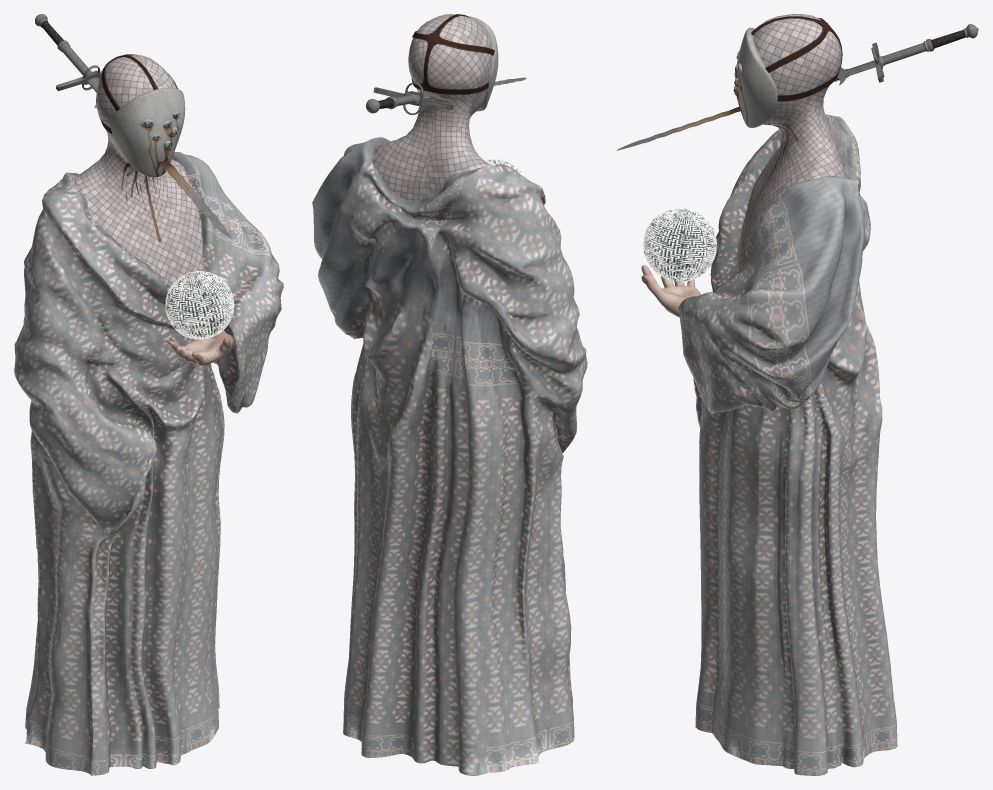
The model's file is avatar.glb.
3 views of the same model, side by side, from view 1: azimuth 30°, elevation 25°; view 2: azimuth 150°, elevation 25°; view 3: azimuth 270°, elevation 25° (orthographic). The views are drawn at different scales.
Visible parts, largest first — view 1: Cloth, Body, Mask, Maze, Zweihander, Hand, straps; view 2: Cloth, Body, Zweihander, straps, Mask; view 3: Cloth, Body, Maze, Mask, Zweihander, straps, Hand.
Part boxes in pixels (x1,y1,x2,y2): Cloth: [14, 152, 283, 775]; Body: [75, 55, 204, 286]; Mask: [110, 88, 185, 177]; Maze: [165, 271, 234, 339]; Zweihander: [35, 14, 230, 237]; Hand: [168, 330, 234, 365]; straps: [98, 54, 178, 134]; Cloth: [312, 137, 587, 775]; Body: [373, 14, 492, 267]; Zweihander: [366, 77, 526, 114]; straps: [411, 14, 494, 94]; Mask: [468, 16, 498, 111]; Cloth: [678, 114, 897, 775]; Body: [736, 14, 847, 270]; Maze: [643, 208, 716, 281]; Mask: [734, 27, 777, 127]; Zweihander: [616, 24, 978, 150]; straps: [751, 16, 842, 101]; Hand: [641, 265, 701, 317].
Bounding box in the file's own units: 3.3 × 8.51 × 3.92.
Materials: 8 (7 with a texture image).
